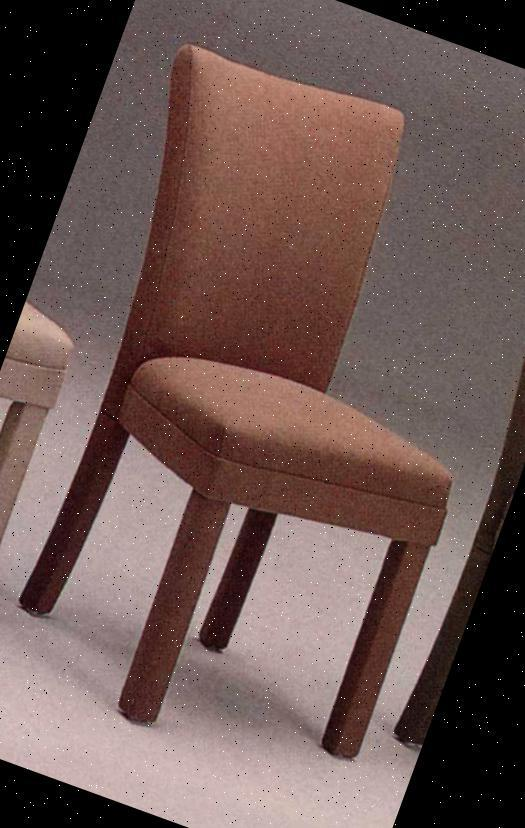Silla: (0, 43, 524, 792)
